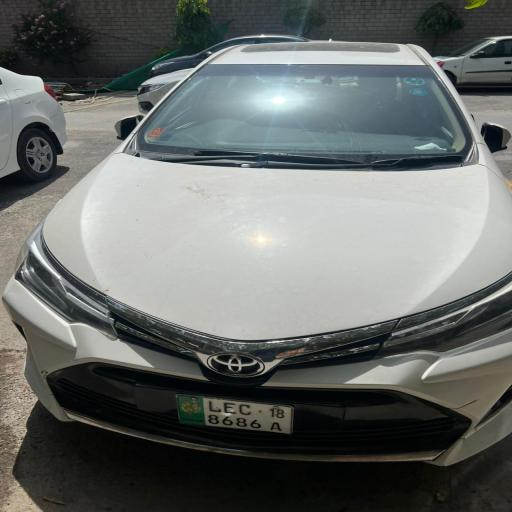bnu_sticker: (404, 76, 426, 86)
number_plate: (175, 394, 297, 438)
